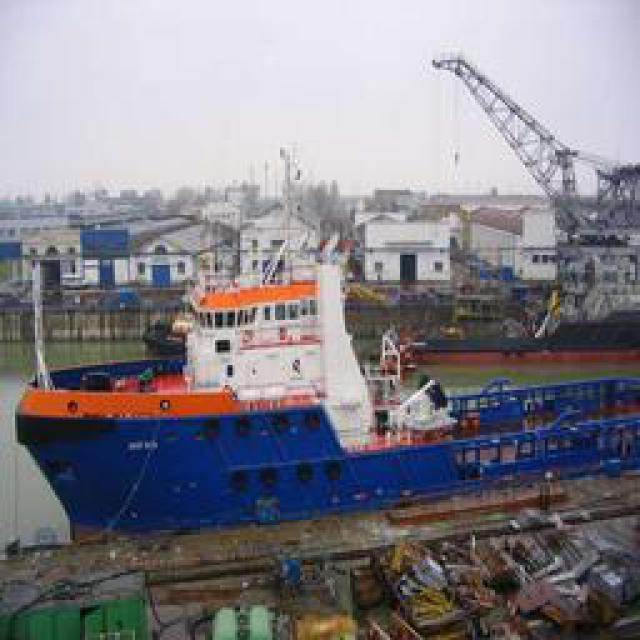Ship: (18, 245, 623, 550)
